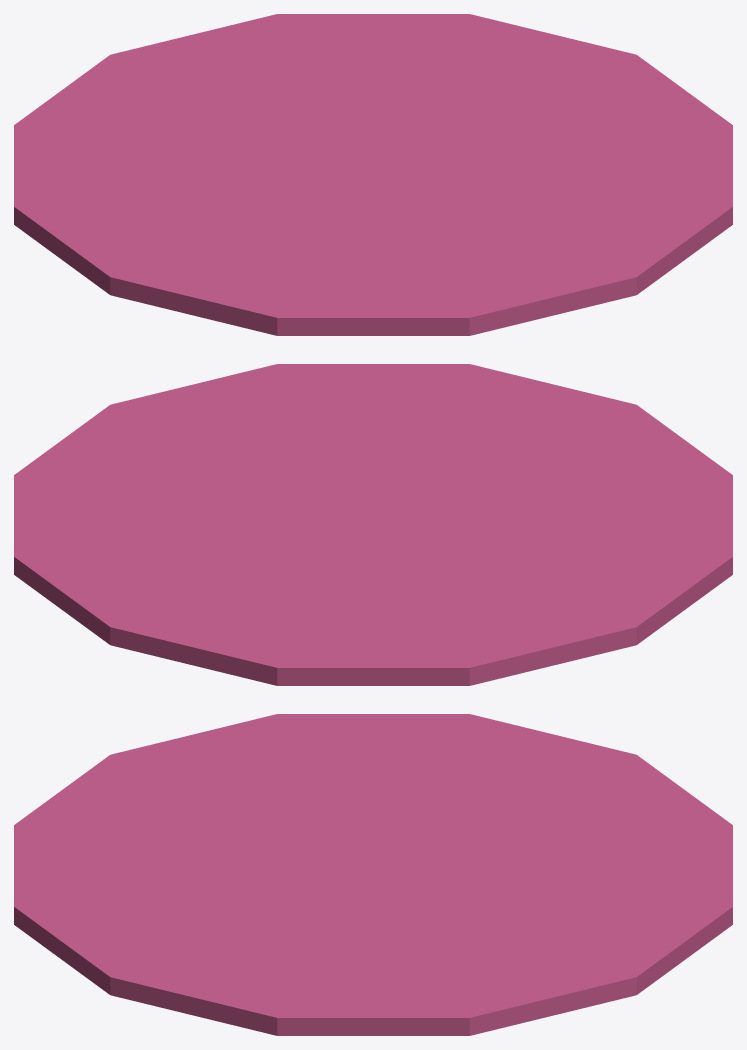
File: Ham.glb
3 views of the same model, one above another, from view 1: azimuth 30°, elevation 25°; view 2: azimuth 150°, elevation 25°; view 3: azimuth 270°, elevation 25° (orthographic).
Visible parts, largest first — view 1: Tomato; view 2: Tomato; view 3: Tomato.
Boxes of the visible parts, x1,y1,x2,y2 form: Tomato: (14, 14, 732, 335); Tomato: (14, 364, 732, 685); Tomato: (14, 714, 732, 1035).
Bounding box in the file's own units: 0.225 × 0.00625 × 0.225.
1 material, 1 textured.
